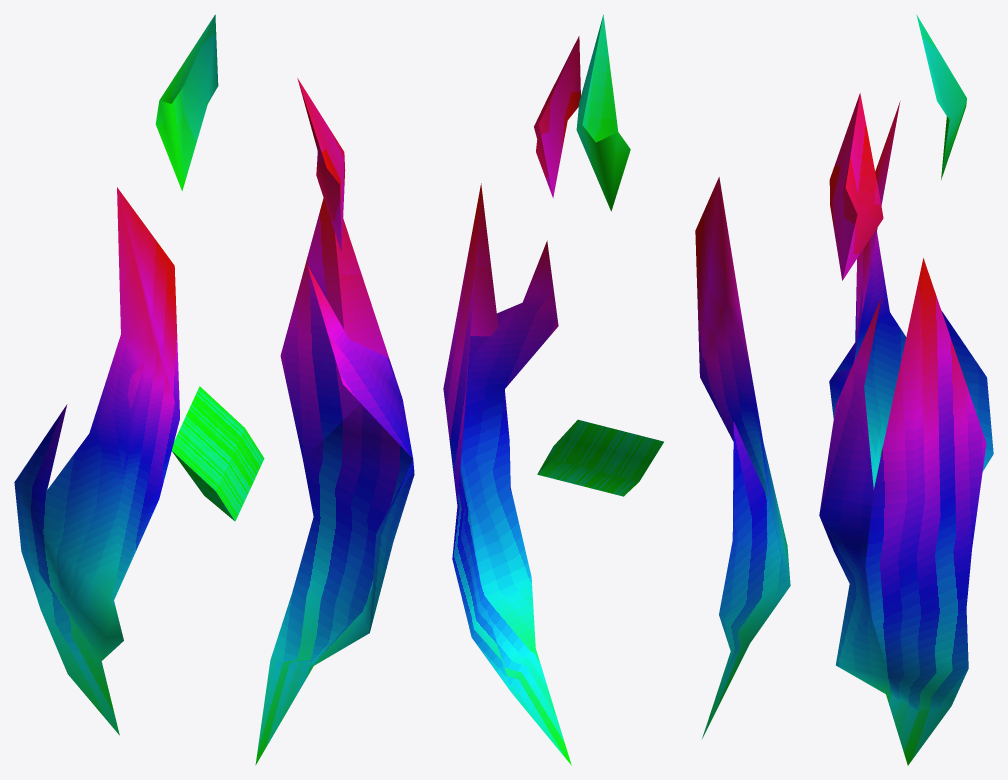
The model's file is proud_soul_tiny.obj.
3 views of the same model, side by side, from view 1: azimuth 30°, elevation 25°; view 2: azimuth 150°, elevation 25°; view 3: azimuth 270°, elevation 25° (orthographic). The views are drawn at different scales.
Visible parts, largest first — view 1: obj24, TrapezohedronSet, SphereBase1, obj20, obj9, obj13, obj23, obj3, obj7, obj12, obj10, soulSet (+19 smaller); view 2: obj24, TrapezohedronBase, TrapezohedronSet, obj12, obj13, obj15, TrapezohedronBase1, obj5, obj19, SphereBase, SphereSet, obj2 (+15 smaller); view 3: TrapezohedronSet, obj24, obj9, SphereBase1, obj7, obj2, obj11, TrapezohedronBase, TrapezohedronBase1, ingotoSet, fireFront, obj10 (+15 smaller).
Boxes of the visible parts, box(x1,y1,x2,y2) form: obj24: box(14, 17, 412, 750); TrapezohedronSet: box(280, 198, 360, 459); SphereBase1: box(292, 517, 375, 611); obj20: box(51, 486, 119, 610); obj9: box(303, 460, 405, 535); obj13: box(117, 187, 179, 416); obj23: box(114, 419, 179, 599); obj3: box(47, 434, 119, 545); obj7: box(303, 404, 412, 473); obj12: box(120, 342, 179, 484); obj10: box(270, 593, 361, 660); soulSet: box(89, 335, 133, 484); obj24: box(446, 24, 788, 758); TrapezohedronBase: box(469, 487, 531, 595); TrapezohedronSet: box(443, 185, 480, 504); obj12: box(700, 300, 760, 439); obj13: box(695, 177, 726, 376); obj15: box(719, 540, 790, 614); TrapezohedronBase1: box(505, 240, 558, 388); obj5: box(483, 577, 535, 666); obj19: box(732, 421, 776, 544); SphereBase: box(460, 440, 510, 511); SphereSet: box(505, 648, 571, 765); obj2: box(468, 183, 498, 359); TrapezohedronSet: box(913, 258, 986, 548); obj24: box(821, 18, 990, 761); obj9: box(865, 550, 971, 619); SphereBase1: box(872, 608, 968, 678); obj7: box(865, 489, 971, 564); obj2: box(874, 259, 923, 489); obj11: box(819, 387, 873, 515); TrapezohedronBase: box(836, 584, 889, 678); TrapezohedronBase1: box(819, 298, 881, 514); ingotoSet: box(819, 490, 873, 564); fireFront: box(845, 93, 878, 214); obj10: box(890, 668, 968, 710).
Bounding box in the file's own units: 0.6933 × 1.47 × 0.3165.
